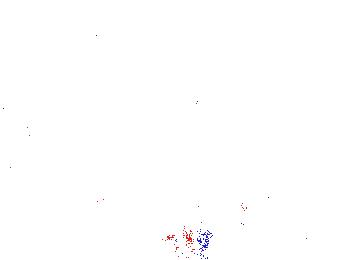flame jellyfish: (167, 199, 252, 254), (19, 73, 67, 141), (84, 171, 144, 219)
